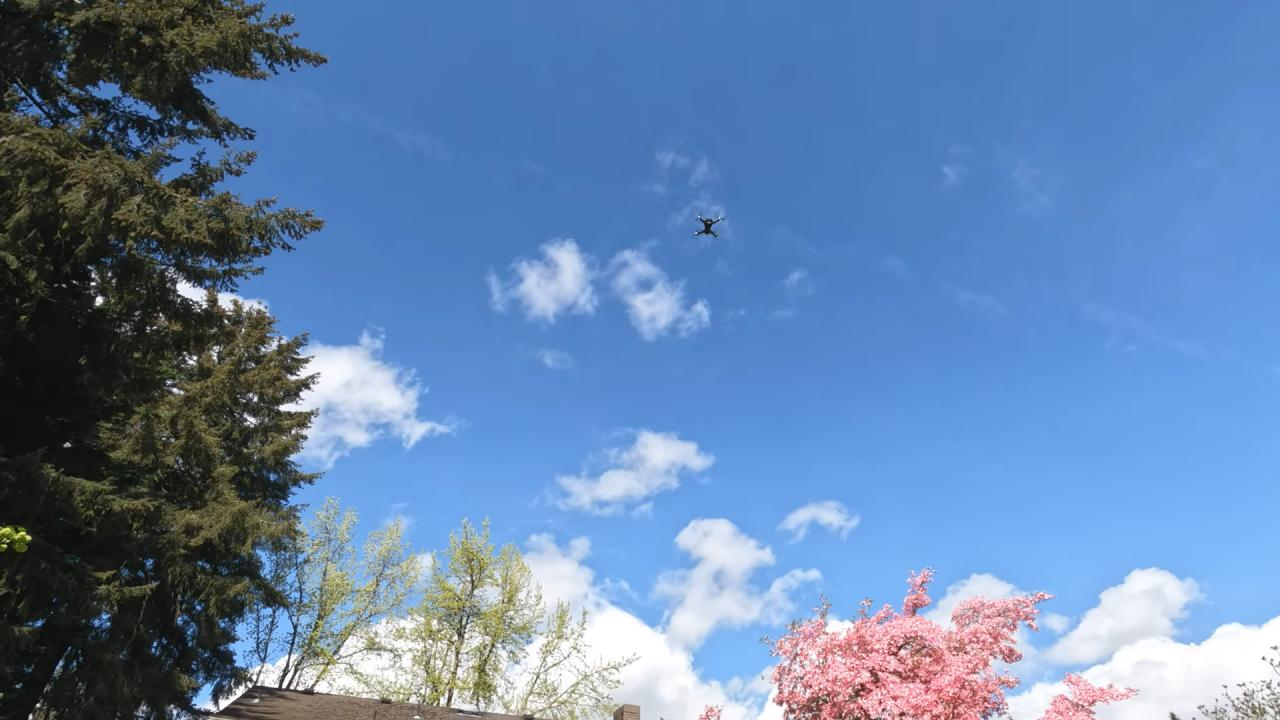Drone: (688, 206, 739, 246)
